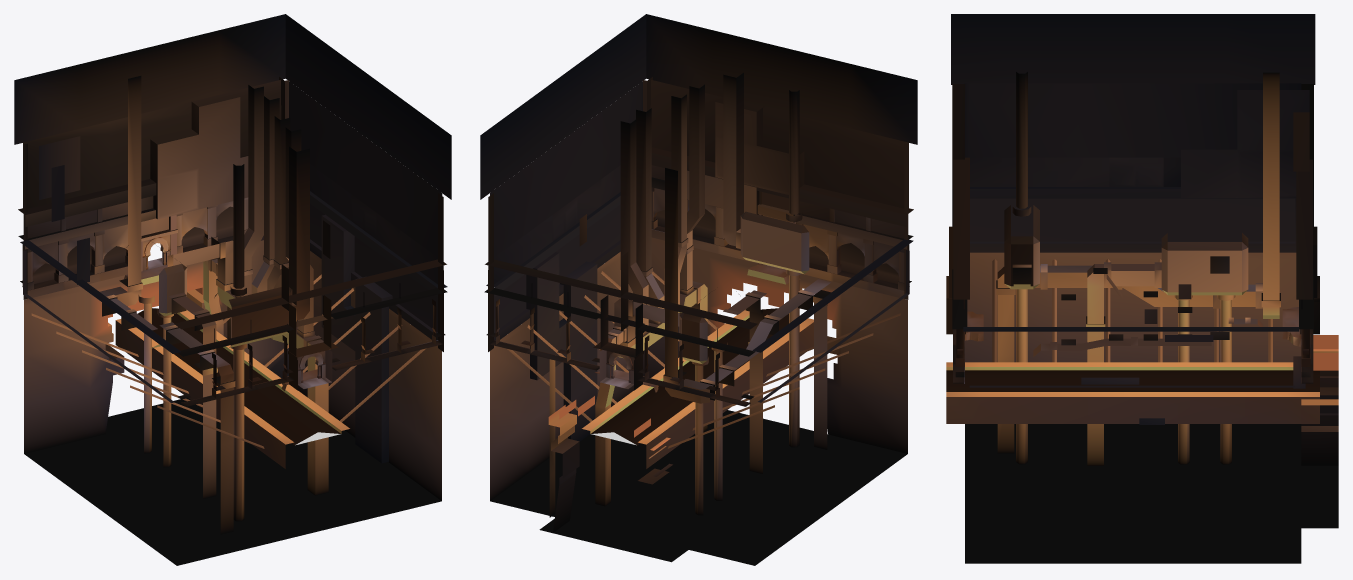
Rendered from 07Lava.gltf.
3 views of the same model, side by side, from view 1: azimuth 30°, elevation 25°; view 2: azimuth 150°, elevation 25°; view 3: azimuth 270°, elevation 25° (orthographic). The views are drawn at different scales.
Visible parts, largest first — view 1: stg031_o27_Mesh_0048, stg031_o27_Mesh_0030, stg031_o27_Mesh_0000, stg031_o27_Mesh_0026, stg031_o27_Mesh_0062, stg031_o27_Mesh_0006, stg031_o27_Mesh_0018, stg031_o27_Mesh_0022, stg031_o27_Mesh_0073, stg031_o27_Mesh_0071, stg031_o27_Mesh_0043, stg031_g27_Mesh_0000 (+16 smaller); view 2: stg031_o27_Mesh_0048, stg031_o27_Mesh_0030, stg031_o27_Mesh_0000, stg031_o27_Mesh_0062, stg031_o27_Mesh_0026, stg031_o27_Mesh_0006, stg031_o27_Mesh_0018, stg031_o27_Mesh_0022, stg031_o27_Mesh_0071, stg031_o27_Mesh_0073, stg031_o27_Mesh_0043, stg031_g27_Mesh_0000 (+16 smaller); view 3: stg031_o27_Mesh_0030, stg031_o27_Mesh_0048, stg031_o27_Mesh_0000, stg031_o27_Mesh_0062, stg031_o27_Mesh_0073, stg031_o27_Mesh_0018, stg031_o27_Mesh_0026, stg031_g27_Mesh_0000, stg031_o27_Mesh_0022, stg031_o27_Mesh_0006, stg031_o27_Mesh_0043, stg031_o27_Mesh_0011 (+11 smaller).
Boxes of the visible parts, left/top/right/bottom form: stg031_o27_Mesh_0048: left=14, top=14, right=451, bottom=451; stg031_o27_Mesh_0030: left=24, top=251, right=441, bottom=565; stg031_o27_Mesh_0000: left=99, top=76, right=328, bottom=534; stg031_o27_Mesh_0026: left=39, top=97, right=392, bottom=463; stg031_o27_Mesh_0062: left=23, top=83, right=439, bottom=257; stg031_o27_Mesh_0006: left=31, top=164, right=426, bottom=521; stg031_o27_Mesh_0018: left=23, top=80, right=437, bottom=360; stg031_o27_Mesh_0022: left=20, top=77, right=447, bottom=360; stg031_o27_Mesh_0073: left=115, top=310, right=349, bottom=468; stg031_o27_Mesh_0071: left=18, top=199, right=447, bottom=389; stg031_o27_Mesh_0043: left=18, top=155, right=446, bottom=329; stg031_g27_Mesh_0000: left=137, top=308, right=340, bottom=445; stg031_o27_Mesh_0048: left=480, top=14, right=917, bottom=451; stg031_o27_Mesh_0030: left=490, top=237, right=907, bottom=565; stg031_o27_Mesh_0000: left=595, top=72, right=830, bottom=506; stg031_o27_Mesh_0062: left=492, top=83, right=908, bottom=257; stg031_o27_Mesh_0026: left=495, top=102, right=804, bottom=517; stg031_o27_Mesh_0006: left=507, top=90, right=900, bottom=515; stg031_o27_Mesh_0018: left=494, top=80, right=908, bottom=360; stg031_o27_Mesh_0022: left=486, top=77, right=913, bottom=360; stg031_o27_Mesh_0071: left=484, top=177, right=913, bottom=389; stg031_o27_Mesh_0073: left=582, top=309, right=813, bottom=468; stg031_o27_Mesh_0043: left=485, top=147, right=913, bottom=329; stg031_g27_Mesh_0000: left=591, top=308, right=788, bottom=445; stg031_o27_Mesh_0030: left=965, top=252, right=1338, bottom=563; stg031_o27_Mesh_0048: left=951, top=14, right=1315, bottom=362; stg031_o27_Mesh_0000: left=997, top=72, right=1279, bottom=465; stg031_o27_Mesh_0062: left=969, top=83, right=1295, bottom=157; stg031_o27_Mesh_0073: left=946, top=362, right=1319, bottom=423; stg031_o27_Mesh_0018: left=970, top=198, right=1295, bottom=241; stg031_o27_Mesh_0026: left=1081, top=90, right=1309, bottom=424; stg031_g27_Mesh_0000: left=946, top=370, right=1319, bottom=391; stg031_o27_Mesh_0022: left=946, top=83, right=1319, bottom=331; stg031_o27_Mesh_0006: left=992, top=72, right=1272, bottom=464; stg031_o27_Mesh_0043: left=953, top=157, right=1312, bottom=299; stg031_o27_Mesh_0011: left=996, top=149, right=1296, bottom=349.
Bounding box in the file's own units: 94.87 × 120 × 105.
